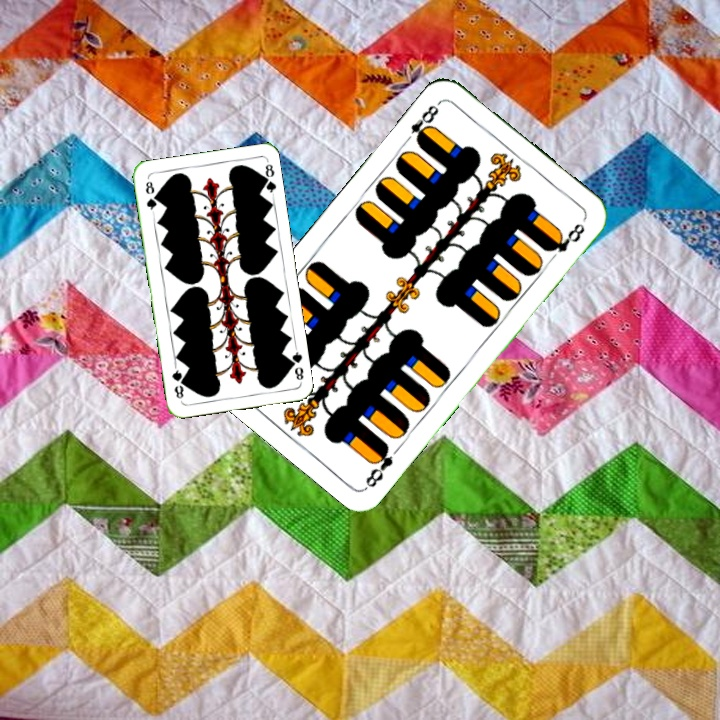E8: (400, 100, 442, 148), (361, 440, 396, 491)
G8: (284, 344, 306, 384), (141, 177, 159, 216)
